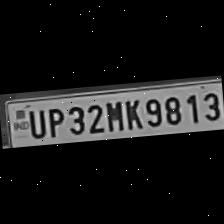1: (181, 91, 201, 125)
2: (84, 100, 106, 135)
3: (198, 89, 222, 124), (64, 102, 86, 137)
8: (160, 93, 184, 127)
9: (140, 94, 164, 129)
K: (120, 96, 142, 132)
M: (104, 97, 125, 132)
P: (44, 104, 65, 138)
U: (24, 106, 45, 140)
